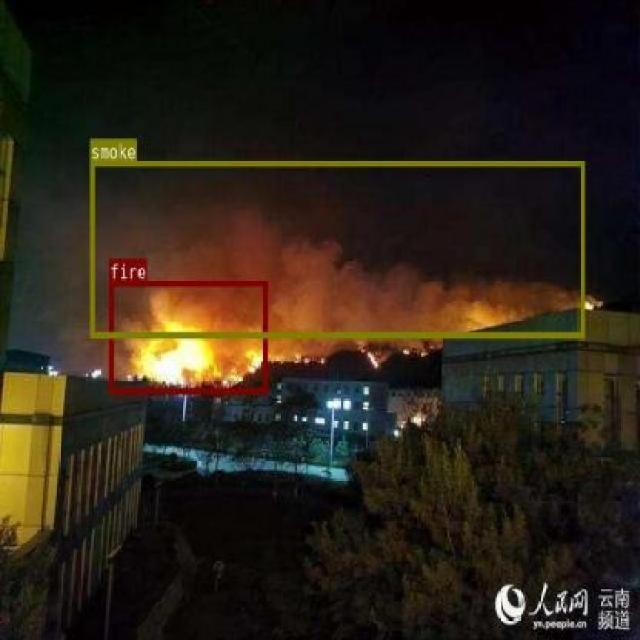Fire: (108, 279, 267, 393)
Smoke: (90, 160, 584, 337)
